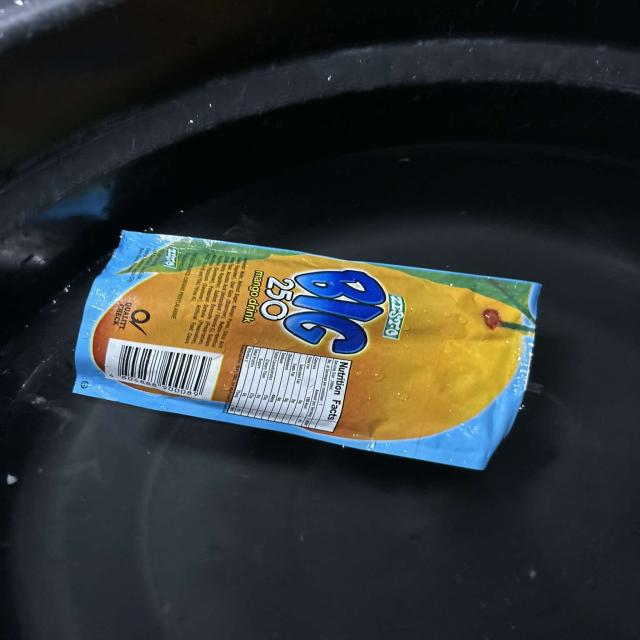Plastic Pouch: (52, 211, 566, 497)
